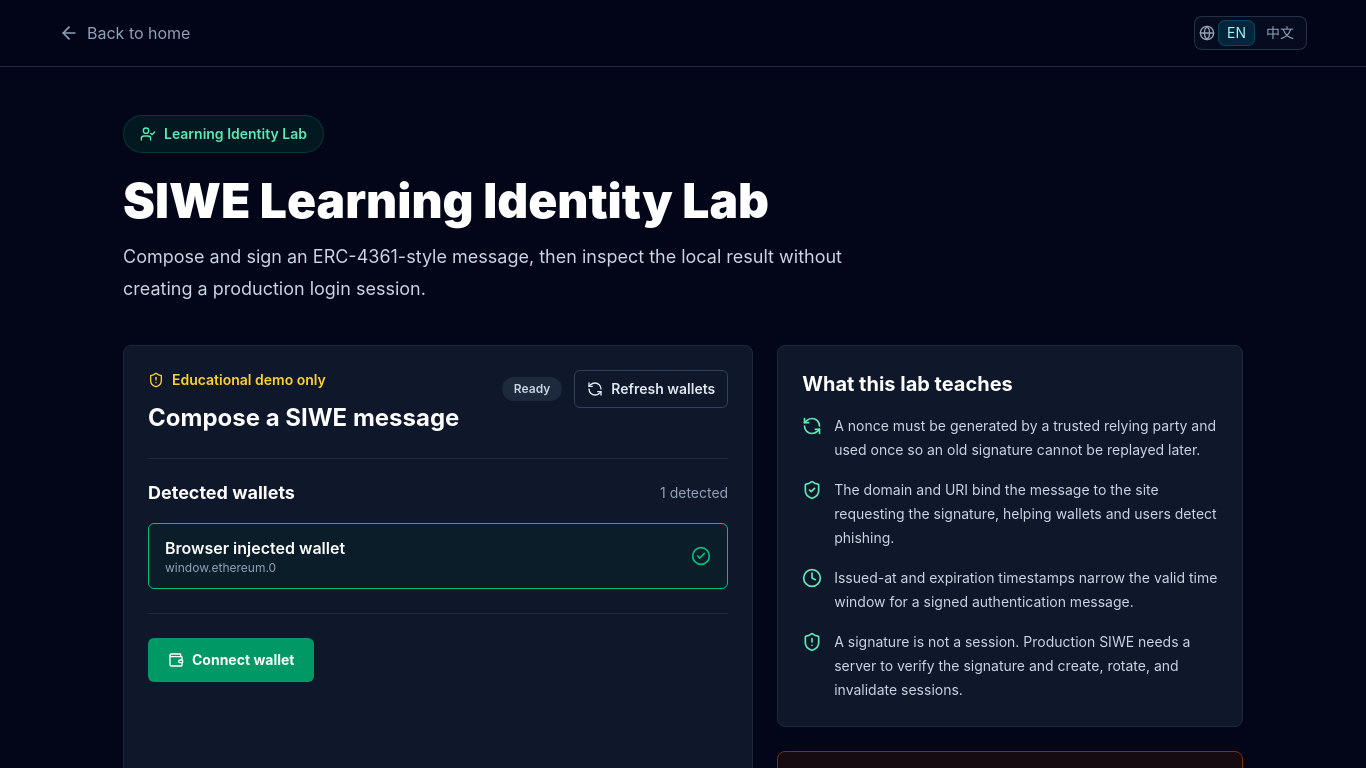
Test: SiweLabPage › connects a wallet and composes a SIWE message preview
The image size is (1366, 768).
Expected: the text "Browser injected wallet" is shown, [165, 536, 345, 560]
Click the button "Connect wallet". click: point(231, 660)
box: [148, 638, 314, 682]
(page scrolled)
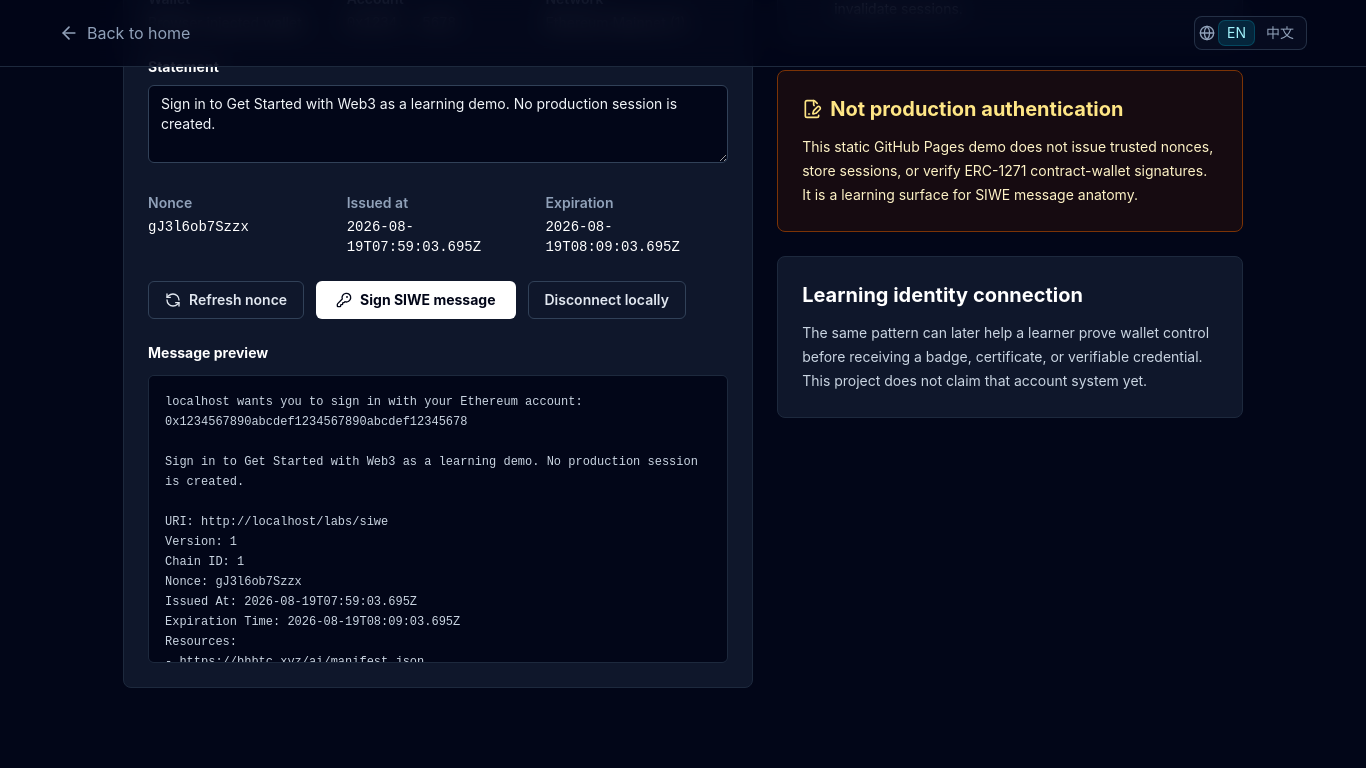
Now the heading "Message preview" is shown, box [148, 344, 268, 361]
Now the text "Expiration Time:" is shown, box [165, 395, 705, 669]
